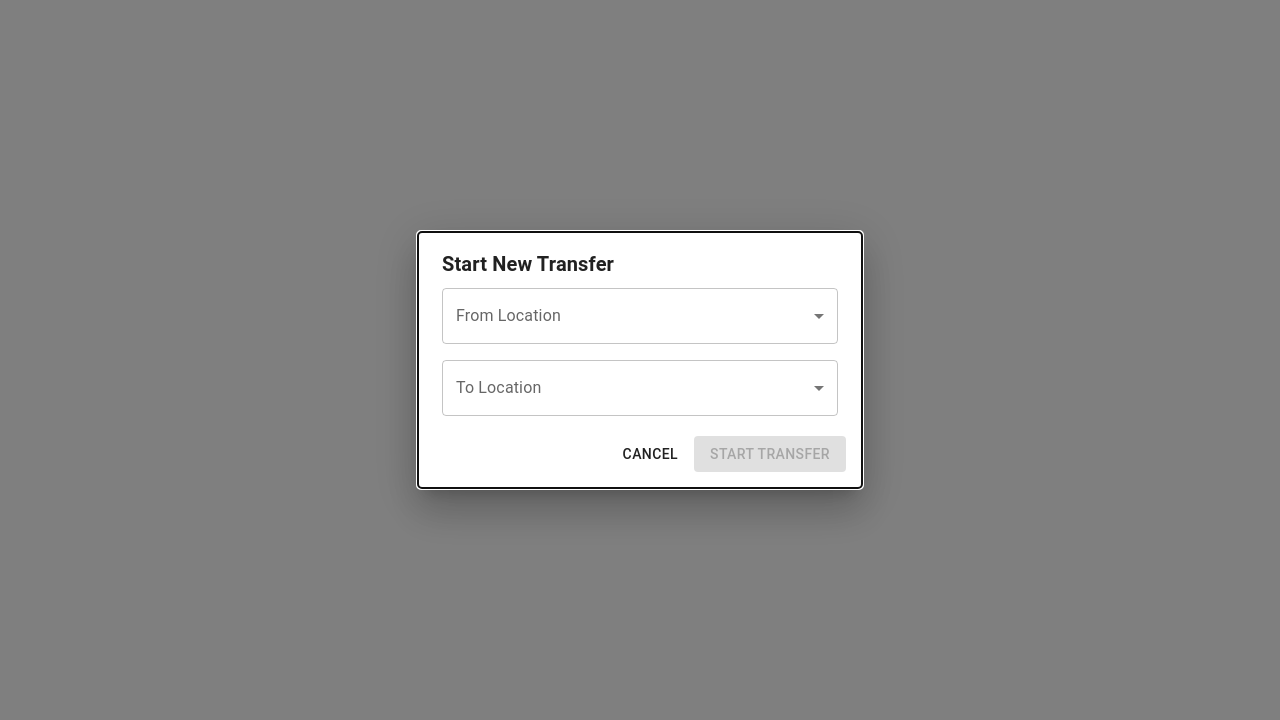
it: StartTransferDialog locations › loads the locations itself when nothing has loaded them yet
Press the mouse on the dropdown next to "From Location": [640, 316] box [442, 288, 838, 344]
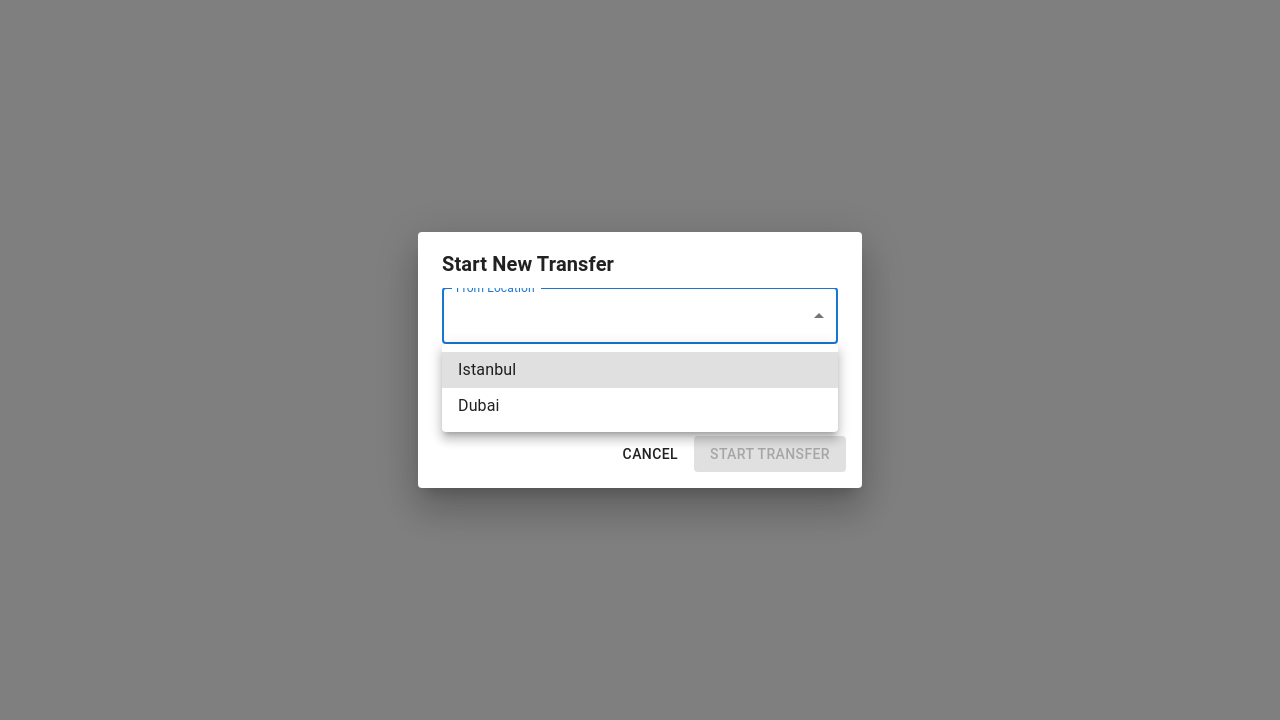
Expected: the option "Istanbul" is shown, [442, 352, 838, 388]
Expected: the option "Dubai" is shown, [458, 396, 500, 415]
